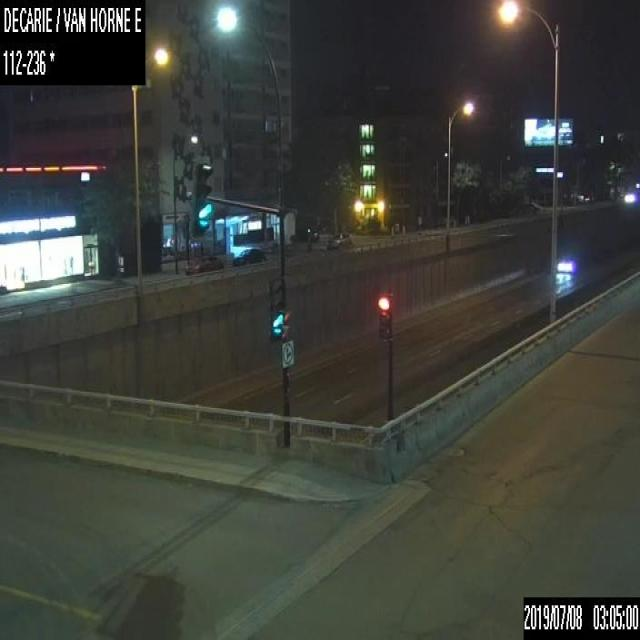vehicle: (185, 255, 224, 275), (231, 246, 265, 263), (326, 230, 352, 248), (558, 255, 578, 272), (524, 202, 541, 212)
